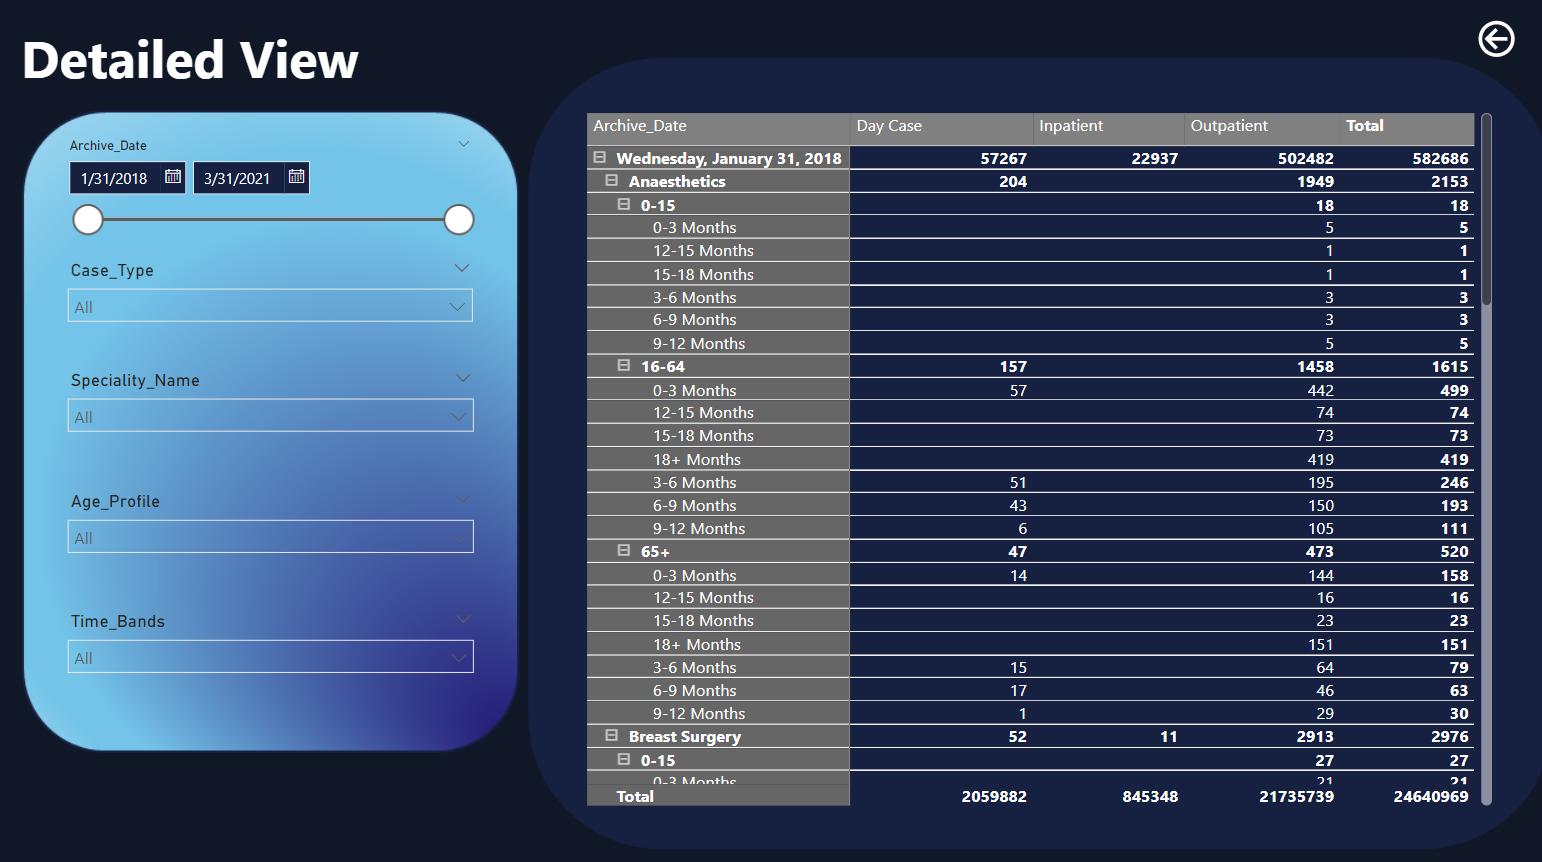

The dashboard page shown, as its layout file describes it:
{"tool":"powerbi","page":{"name":"Detial","canvas":[1280,720],"ordinal":1},"visuals":[{"type":"textbox","box":[16,16,352,80],"z":0},{"type":"slicer","fields":{"Values":["All_Data.Archive_Date"]},"box":[48,110.5,354.2,100.9],"z":1000},{"type":"slicer","fields":{"Values":["All_Data.Speciality_Name"]},"box":[49.2,301.4,354.2,79.2],"z":2000},{"type":"slicer","fields":{"Values":["All_Data.Age_Profile"]},"box":[49.2,401.1,354.2,79.2],"z":3000},{"type":"slicer","fields":{"Values":["All_Data.Time_Bands"]},"box":[49.2,499.5,354.2,79.2],"z":4000},{"type":"slicer","fields":{"Values":["All_Data.Case_Type"]},"box":[49.2,211.3,353,75.7],"z":5000},{"type":"pivotTable","fields":{"Rows":["All_Data.Archive_Date","All_Data.Speciality_Name","All_Data.Age_Profile","All_Data.Time_Bands"],"Columns":["All_Data.Case_Type"],"Values":["Sum(All_Data.Total)"]},"box":[481.5,91.3,752.9,578.8],"z":6000},{"type":"actionButton","box":[1214,15.6,42,39.6],"z":7000}]}

Visuals, with their boxes in screenshot pixels (x1, y1, x2, y2), scaled from the page's 1280x720 canvas onto the 1542x862 screenshot:
textbox: 19, 19, 443, 115
slicer - All_Data.Archive_Date: 58, 132, 485, 253
slicer - All_Data.Speciality_Name: 59, 361, 486, 456
slicer - All_Data.Age_Profile: 59, 480, 486, 575
slicer - All_Data.Time_Bands: 59, 598, 486, 693
slicer - All_Data.Case_Type: 59, 253, 485, 344
pivotTable - All_Data.Archive_Date x All_Data.Speciality_Name: 580, 109, 1487, 802
actionButton: 1462, 19, 1513, 66
